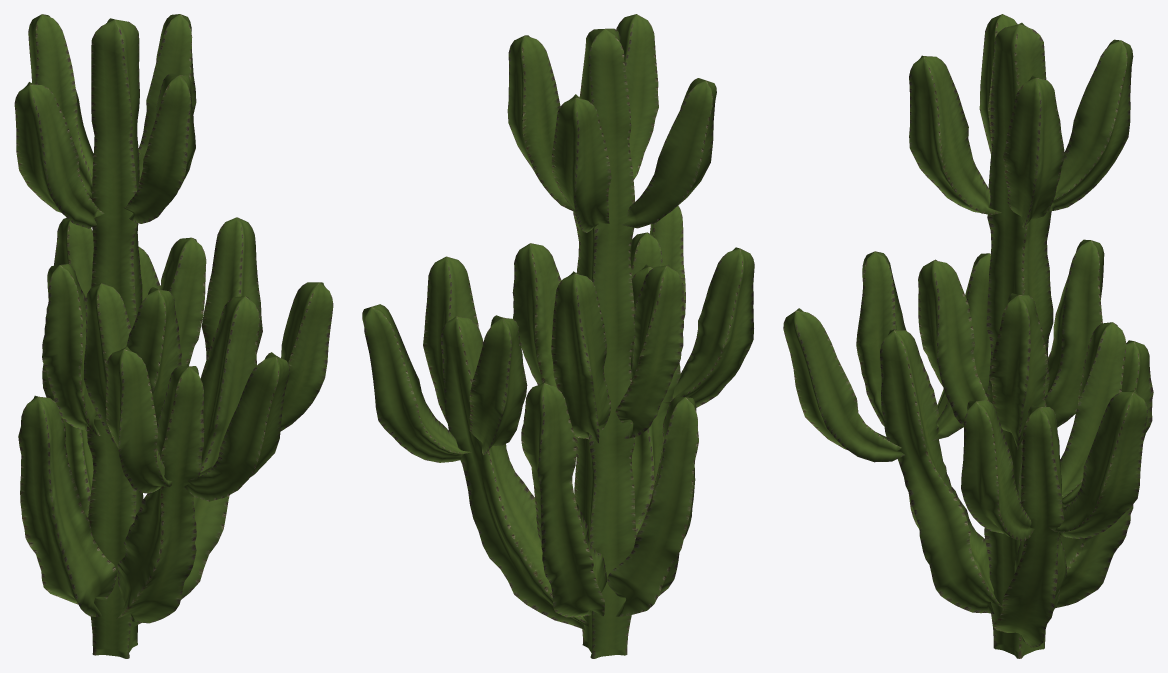
The model's file is runtime-jasminocereus-2.glb.
3 views of the same model, side by side, from view 1: azimuth 30°, elevation 25°; view 2: azimuth 150°, elevation 25°; view 3: azimuth 270°, elevation 25° (orthographic).
Parts seen in each view (by area): view 1: Euphorbia_candelabrum_HD; view 2: Euphorbia_candelabrum_HD; view 3: Euphorbia_candelabrum_HD.
Part boxes in pixels (bbox=[...]): Euphorbia_candelabrum_HD: bbox=[14, 14, 333, 658]; Euphorbia_candelabrum_HD: bbox=[362, 14, 754, 658]; Euphorbia_candelabrum_HD: bbox=[783, 14, 1153, 658].
Size of the model in its own units: 0.4853 by 0.9735 by 0.5236.
4 materials, 4 textured.
